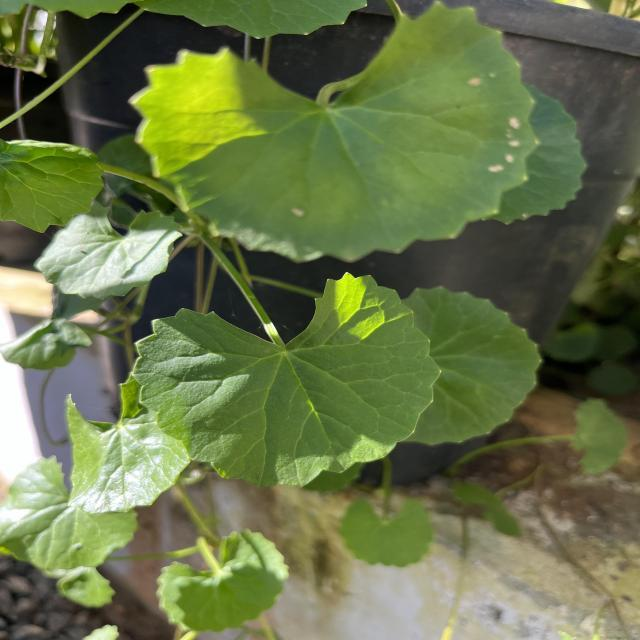Centella asiatica: (128, 266, 448, 492)
